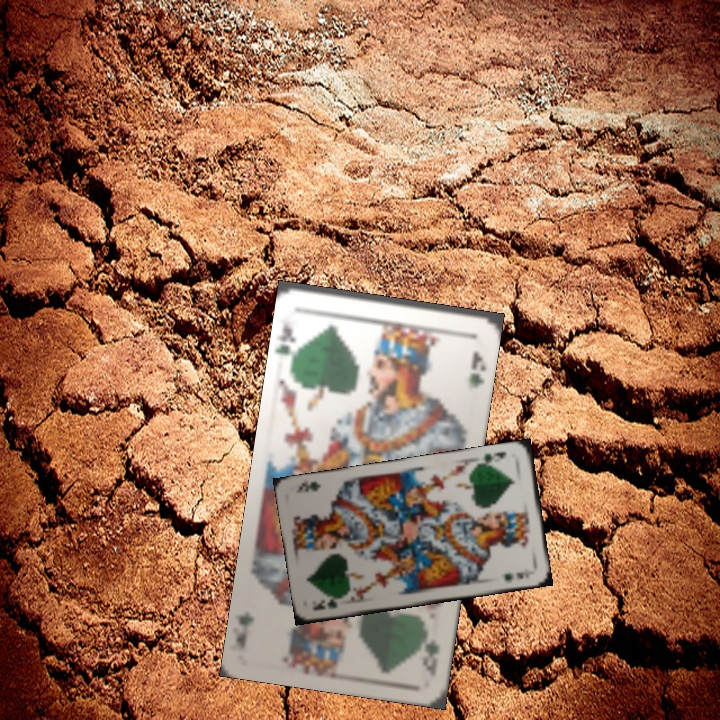GK: (274, 318, 303, 367), (419, 635, 442, 679), (309, 593, 347, 613), (476, 448, 509, 468)
